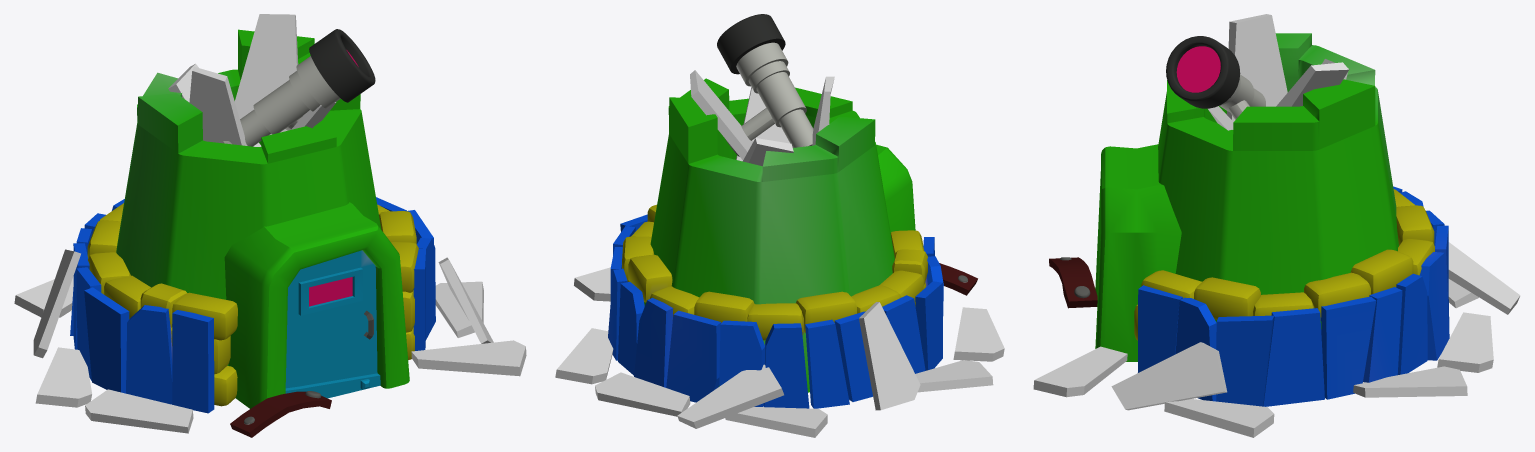
Rendered from BrokenPoliceSynergyBuilding.fbx.
The picture shows the model from 3 angles, left to right: view 1: azimuth 30°, elevation 25°; view 2: azimuth 150°, elevation 25°; view 3: azimuth 270°, elevation 25°; orthographic projection. The views are drawn at different scales.
Visible parts, largest first — view 1: Circle.004, Circle.006, Circle.018, Circle.009; view 2: Circle.004, Circle.006, Circle.018, Circle.009; view 3: Circle.004, Circle.006, Circle.018, Circle.009.
Boxes of the visible parts, x1,y1,x2,y2 form: Circle.004: [70, 29, 435, 413]; Circle.006: [14, 14, 526, 433]; Circle.018: [223, 29, 375, 146]; Circle.009: [230, 391, 331, 437]; Circle.004: [608, 78, 943, 408]; Circle.006: [555, 70, 1004, 437]; Circle.018: [717, 14, 813, 156]; Circle.009: [939, 263, 977, 295]; Circle.004: [1095, 33, 1449, 406]; Circle.006: [1033, 14, 1520, 437]; Circle.018: [1166, 36, 1265, 119]; Circle.009: [1049, 257, 1097, 308].
Bounding box in the file's own units: 117 × 78.8 × 109.
